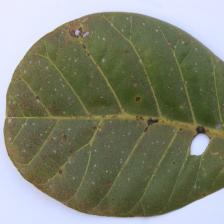red rust: (4, 11, 224, 216)
